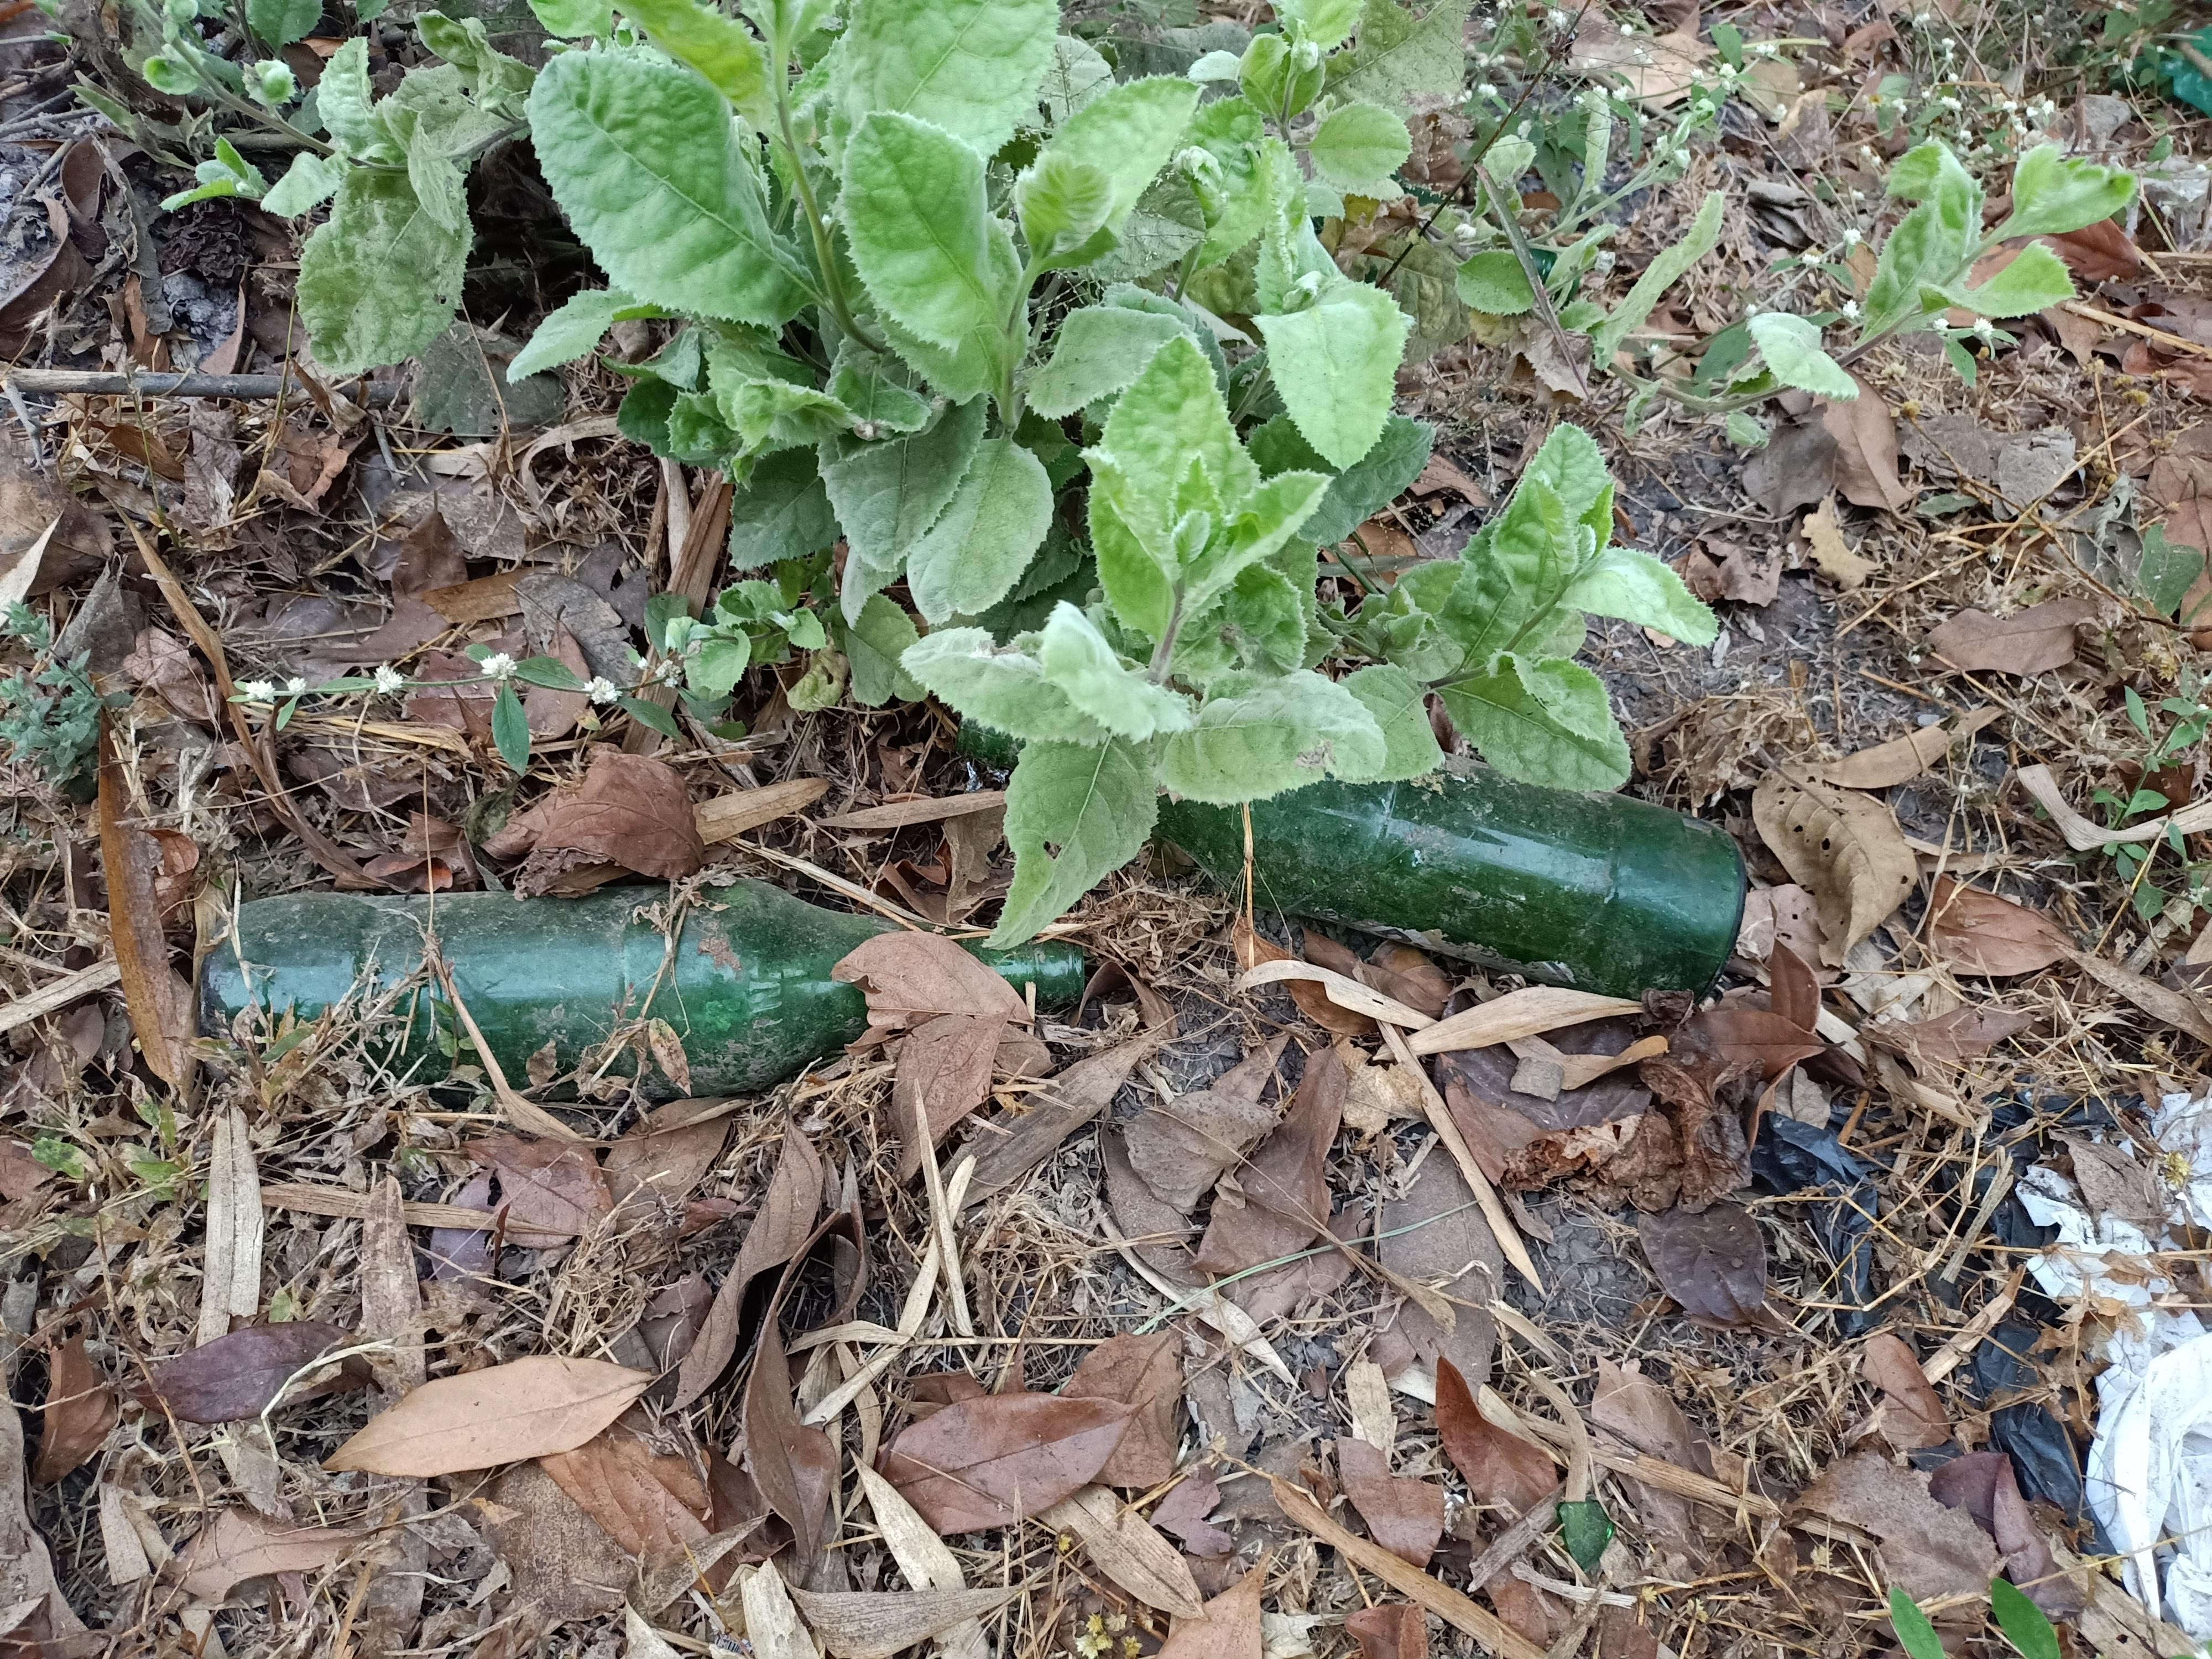organic: (190, 659, 1749, 1126)
